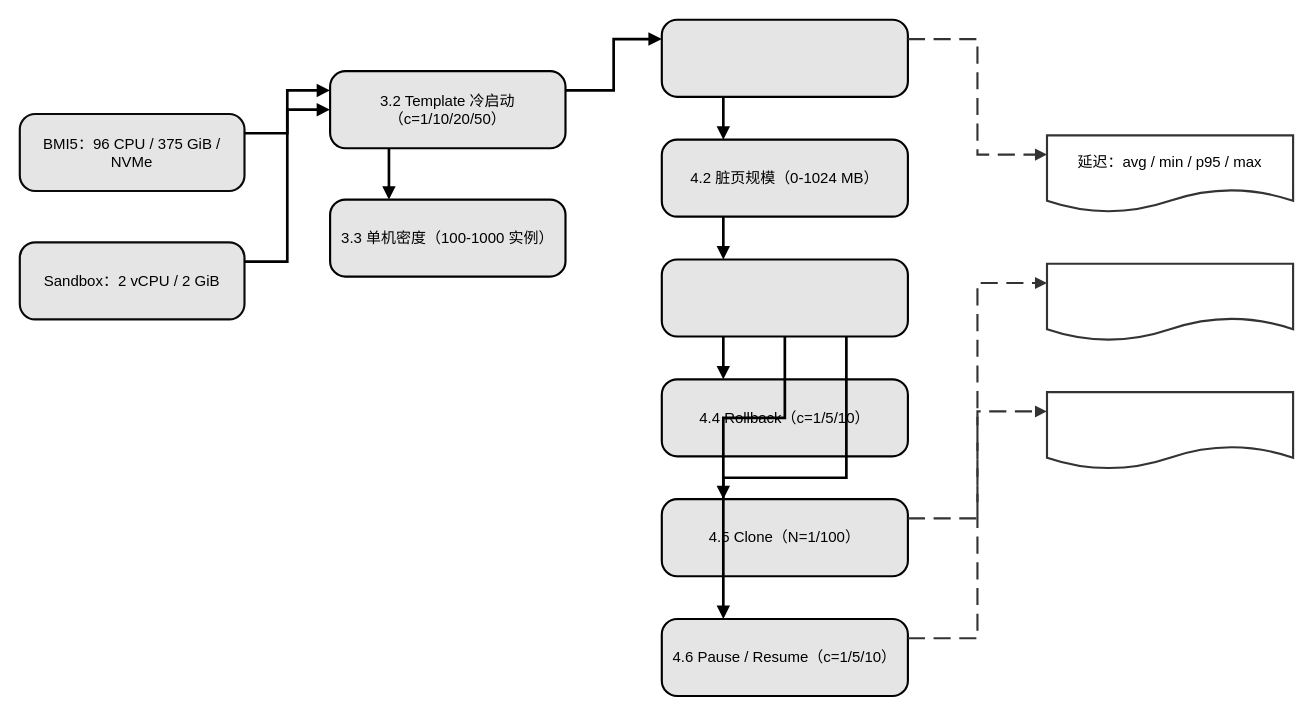
Some shapes in this 1312 by 715 pixel diagram are drawn without their labels. Each missing label, with the centre of its shape:
"4.1 Snapshot 并发（c=1/5/10）" goes at pixel 784 57.
"4.3 Snapshot 恢复（c=1/10/20/50）" goes at pixel 784 297.
"并发：wall / per / throughput" goes at pixel 1169 301.
"资源：RAM / dirty bytes / cache" goes at pixel 1169 430.
